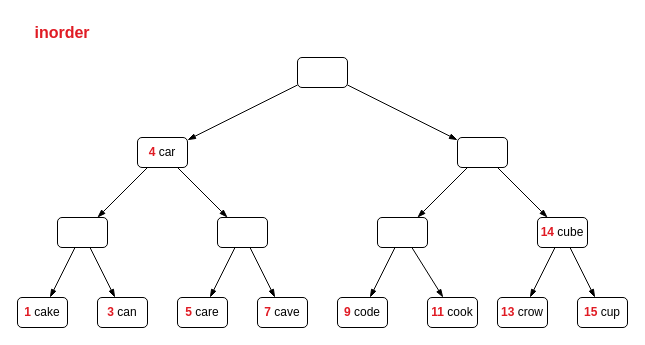
Image size: 645x345. Some labels were removed from this diagram. The centre of each missing label's shape, as x and y in pixels:
10 coin: (402,232)
12 crab: (482,152)
2 call: (82,232)
6 cat: (242,232)
8 clip: (322,72)
